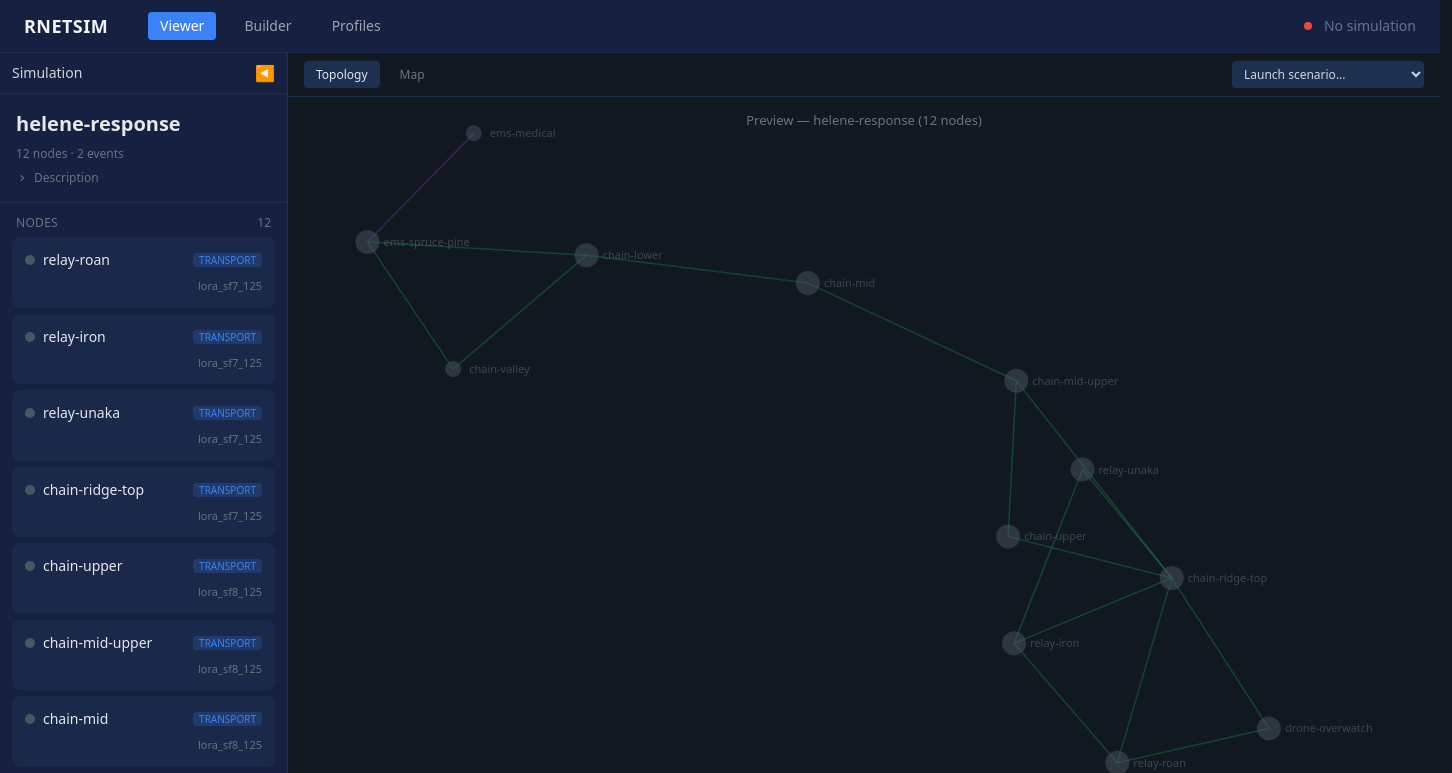
Test: Navigation › switches to Profiles tab
Step 1. Click the button "Profiles" → [357, 26], box [320,12,393,40]
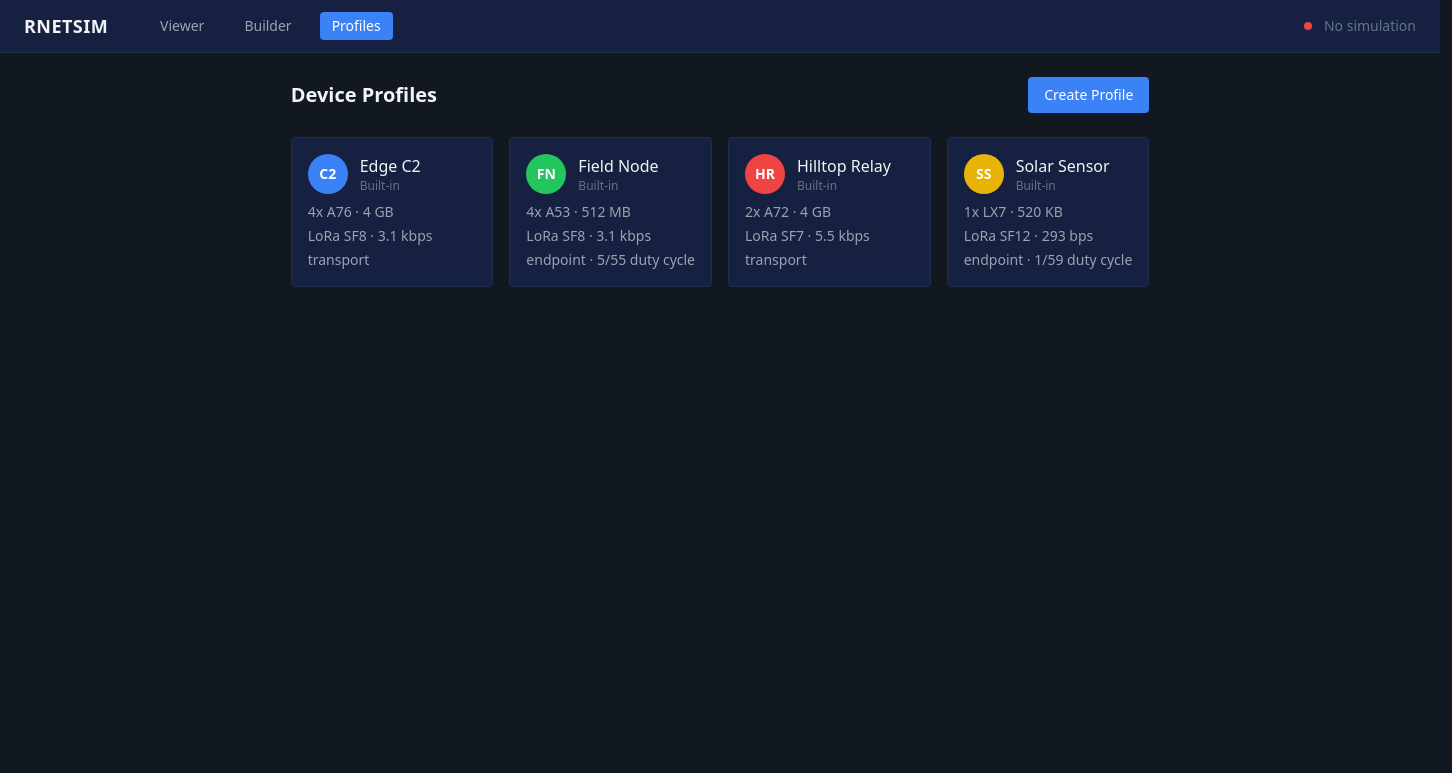
Now the heading "Device Profiles" is shown, box [291,81,437,109]
